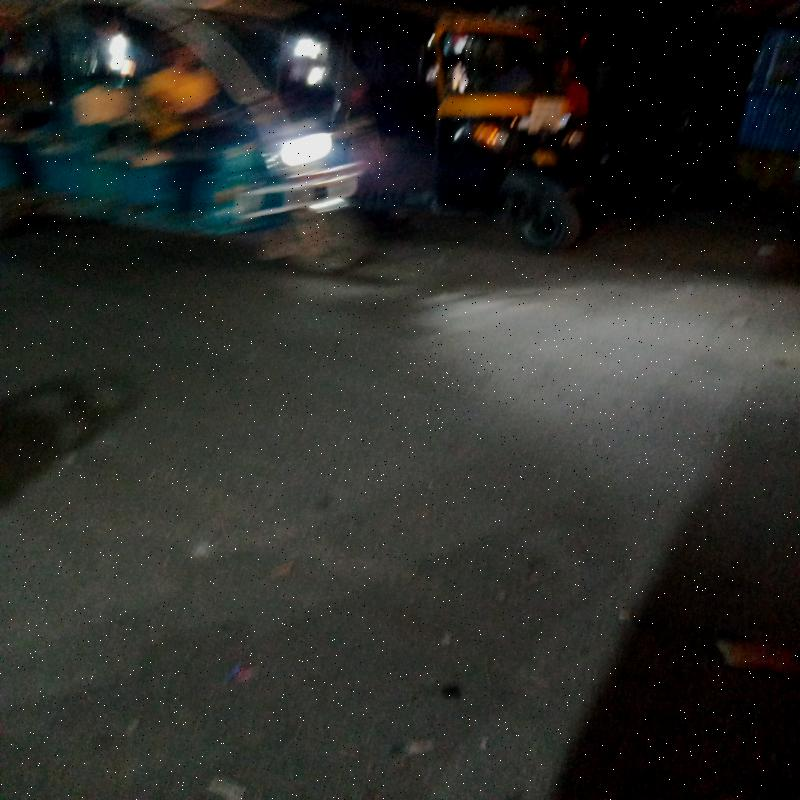auto: (27, 7, 372, 280), (404, 22, 615, 268)
